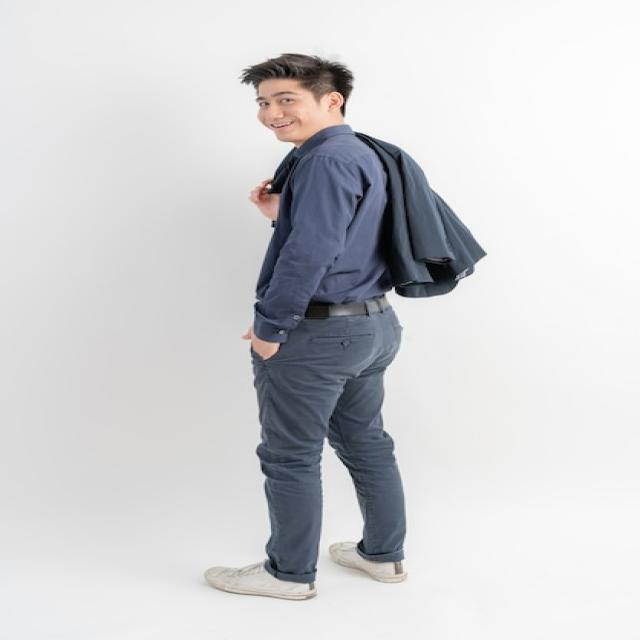Person: (205, 52, 486, 602)
